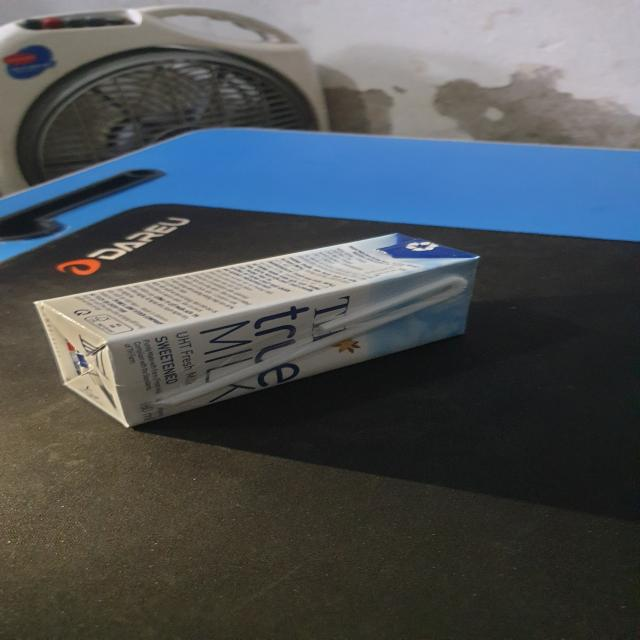TH: (35, 230, 478, 426)
